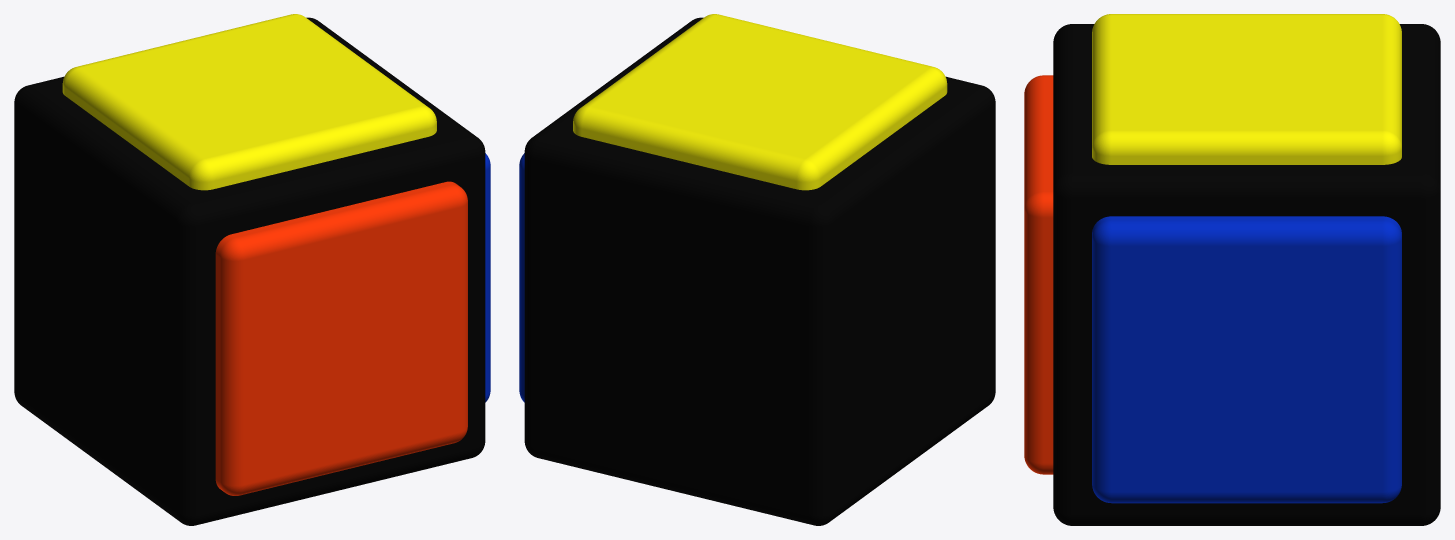
The model's file is cubinho(-1, 1, 1).obj.
The picture shows the model from 3 angles, left to right: view 1: azimuth 30°, elevation 25°; view 2: azimuth 150°, elevation 25°; view 3: azimuth 270°, elevation 25°; orthographic projection. The views are drawn at different scales.
Visible parts, largest first — view 1: (-1,_1,_1); view 2: (-1,_1,_1); view 3: (-1,_1,_1).
Part boxes in pixels (x1,y1,x2,y2): (-1,_1,_1): (14,14,490,525); (-1,_1,_1): (519,14,995,525); (-1,_1,_1): (1024,14,1440,525).
Bounding box in the file's own units: 2.15 × 2.15 × 2.15.
